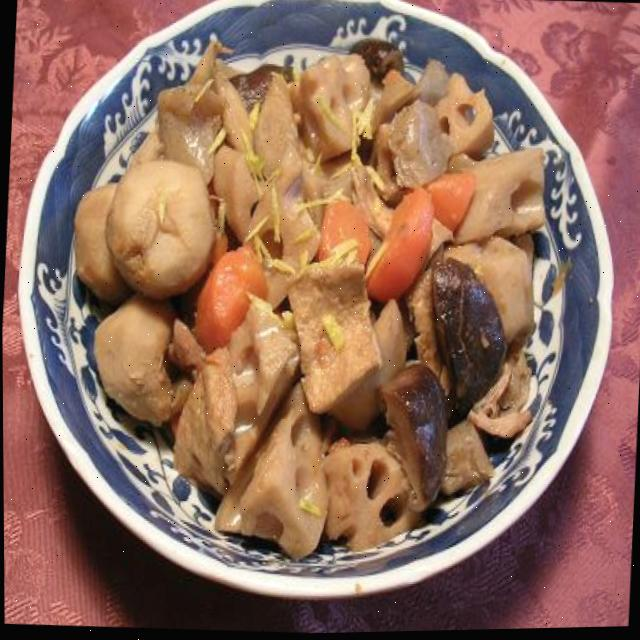鸡肉料理 含炸鸡: (0, 0, 626, 612)
